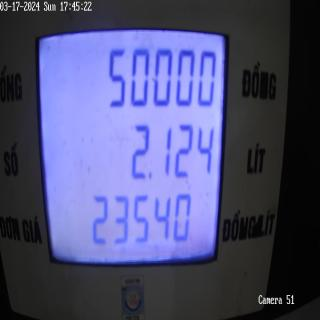screen: (32, 6, 232, 288)
